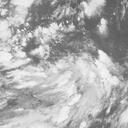cyclone: (39, 49, 112, 110)
